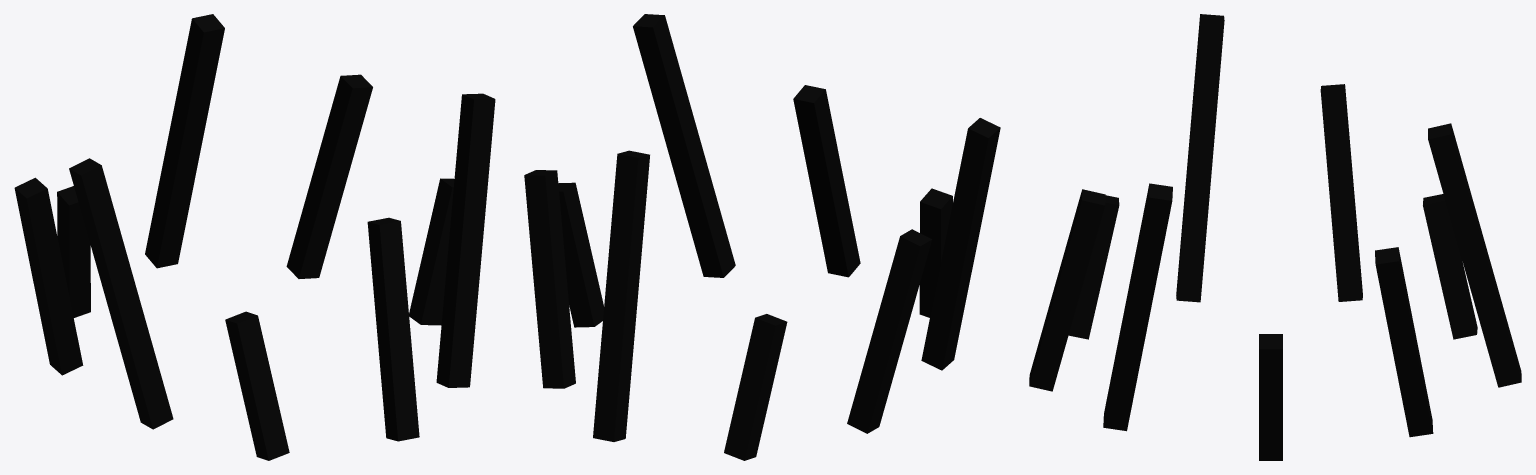
File: rival_reed_crown.obj
The picture shows the model from 3 angles, left to right: view 1: azimuth 30°, elevation 25°; view 2: azimuth 150°, elevation 25°; view 3: azimuth 270°, elevation 25°; orthographic projection. The views are drawn at different scales.
Visible parts, largest first — view 1: rival_reed_crown; view 2: rival_reed_crown; view 3: rival_reed_crown.
Boxes of the visible parts, left/top/right/bottom form: rival_reed_crown: left=14, top=14, right=495, bottom=460; rival_reed_crown: left=524, top=14, right=1000, bottom=460; rival_reed_crown: left=1029, top=14, right=1521, bottom=460.
Size of the model in its own units: 0.6185 by 0.3833 by 0.6398.
